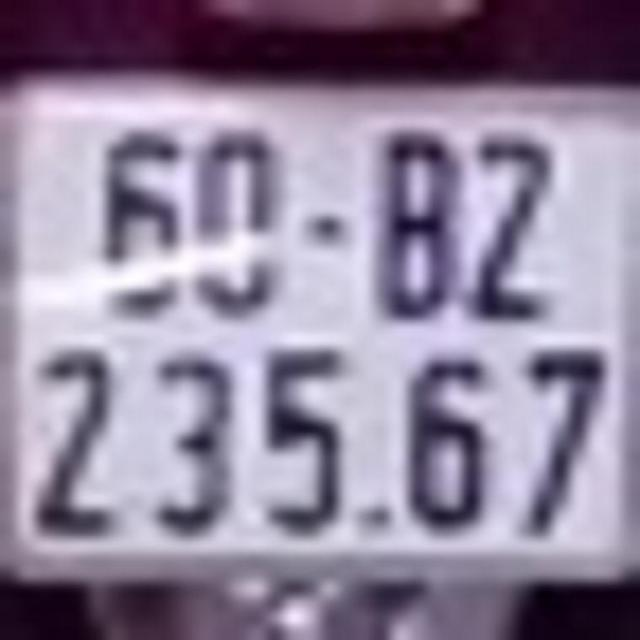0: (190, 125, 284, 316)
2: (27, 337, 130, 538), (462, 120, 557, 326)
3: (149, 353, 239, 545)
5: (272, 340, 346, 540)
6: (98, 126, 187, 324), (406, 353, 488, 536)
7: (510, 346, 600, 544)
B: (374, 129, 452, 329)
